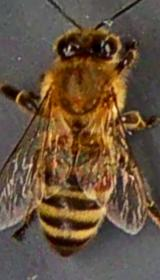varroa_mite: (90, 162, 116, 194)
